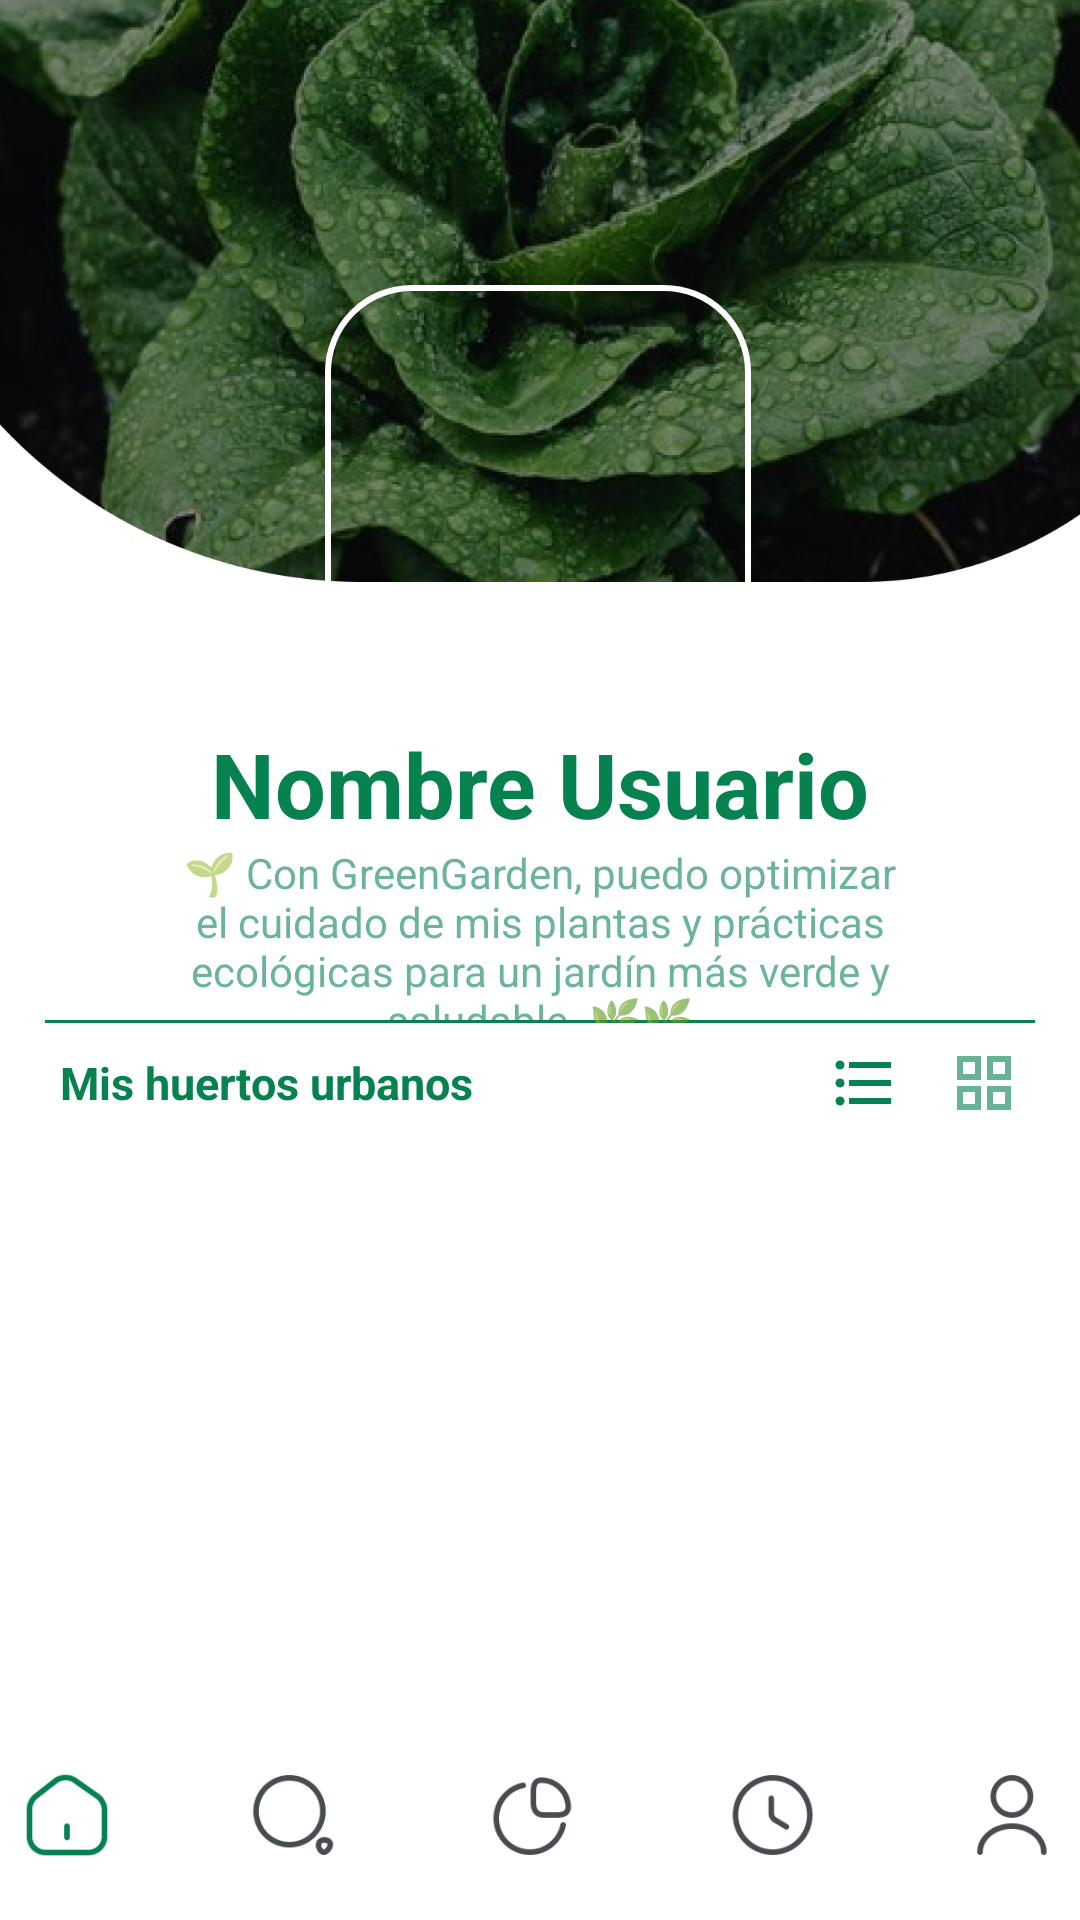

Where to tap for icons on this 1080 x 1920 app screen, as [x,y]:
clock: [772,1815]
graph: [532,1816]
home: [67,1815]
search: [293,1815]
user: [1012,1815]
